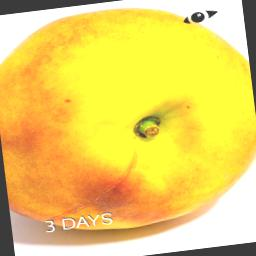Peach Ripe: (0, 0, 256, 243)
